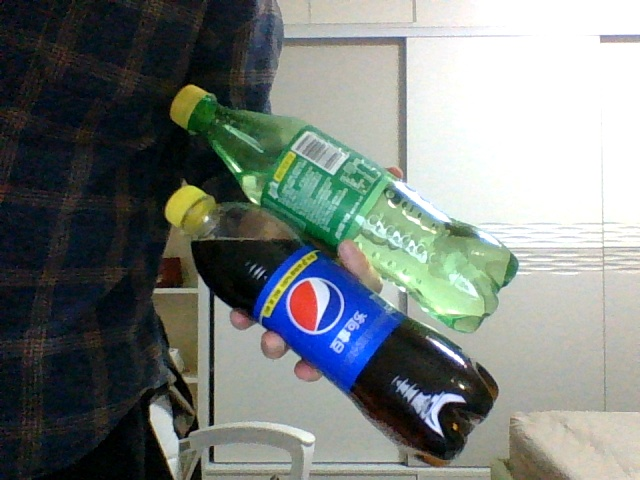Cola: (167, 188, 500, 468)
Sprite: (170, 87, 519, 333)
